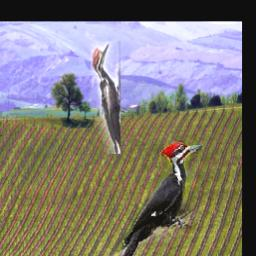Woodpecker: (113, 141, 202, 256), (91, 41, 121, 154)
